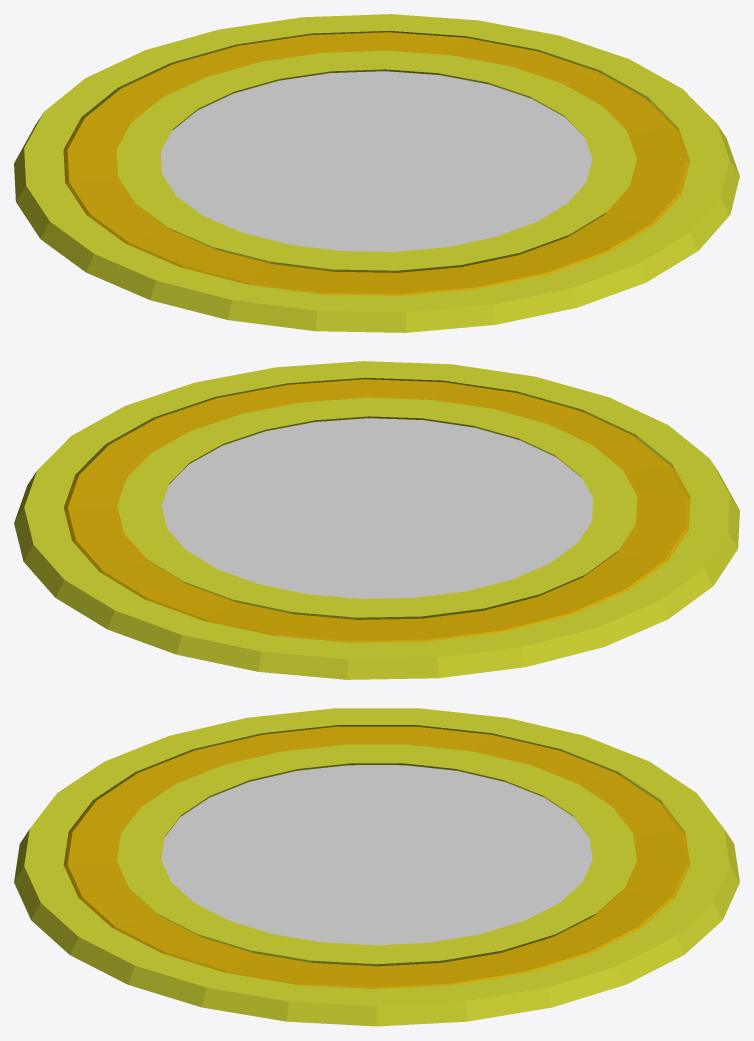
Rendered from arena2.fbx.
3 renders of one model, top to bottom at view 1: azimuth 30°, elevation 25°; view 2: azimuth 150°, elevation 25°; view 3: azimuth 270°, elevation 25°, orthographic.
Parts seen in each view (by area): view 1: Cylinder.009, Torus.003, Torus.006, Torus.007; view 2: Cylinder.009, Torus.003, Torus.006, Torus.007; view 3: Cylinder.009, Torus.003, Torus.006, Torus.007.
Part boxes in pixels (bbox=[...]): Cylinder.009: bbox=[161, 71, 592, 251]; Torus.003: bbox=[14, 14, 739, 332]; Torus.006: bbox=[63, 32, 689, 295]; Torus.007: bbox=[116, 50, 636, 272]; Cylinder.009: bbox=[161, 418, 592, 598]; Torus.003: bbox=[14, 361, 739, 679]; Torus.006: bbox=[64, 379, 690, 642]; Torus.007: bbox=[117, 397, 637, 619]; Cylinder.009: bbox=[161, 765, 592, 945]; Torus.003: bbox=[14, 708, 739, 1026]; Torus.006: bbox=[63, 726, 690, 989]; Torus.007: bbox=[117, 744, 636, 966].
Bounding box in the file's own units: 452 × 20.85 × 453.
